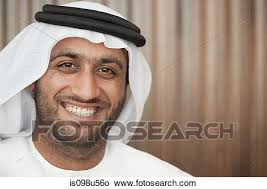middle_eastern_male: (30, 32, 125, 151)
